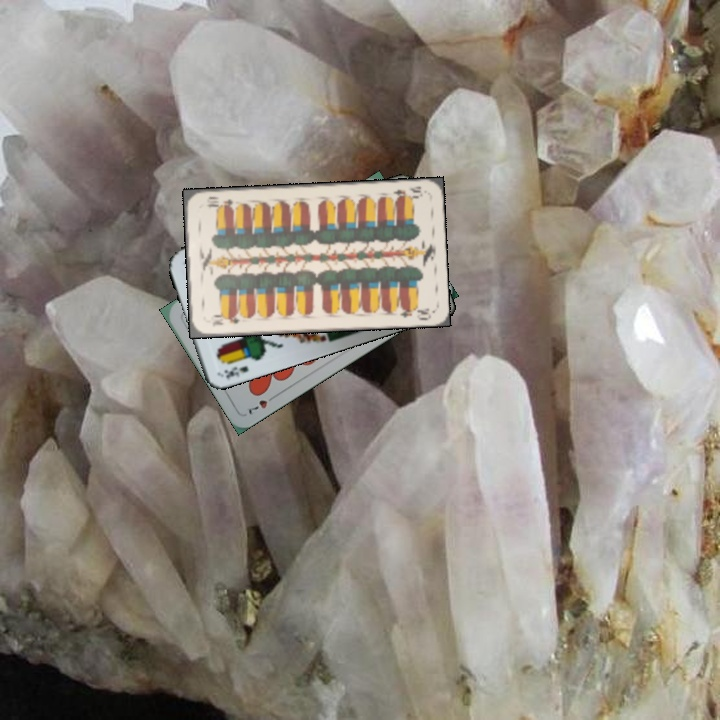E10: (389, 182, 425, 202), (208, 311, 243, 329)
EK: (220, 362, 251, 382)
H7: (244, 390, 279, 417)
